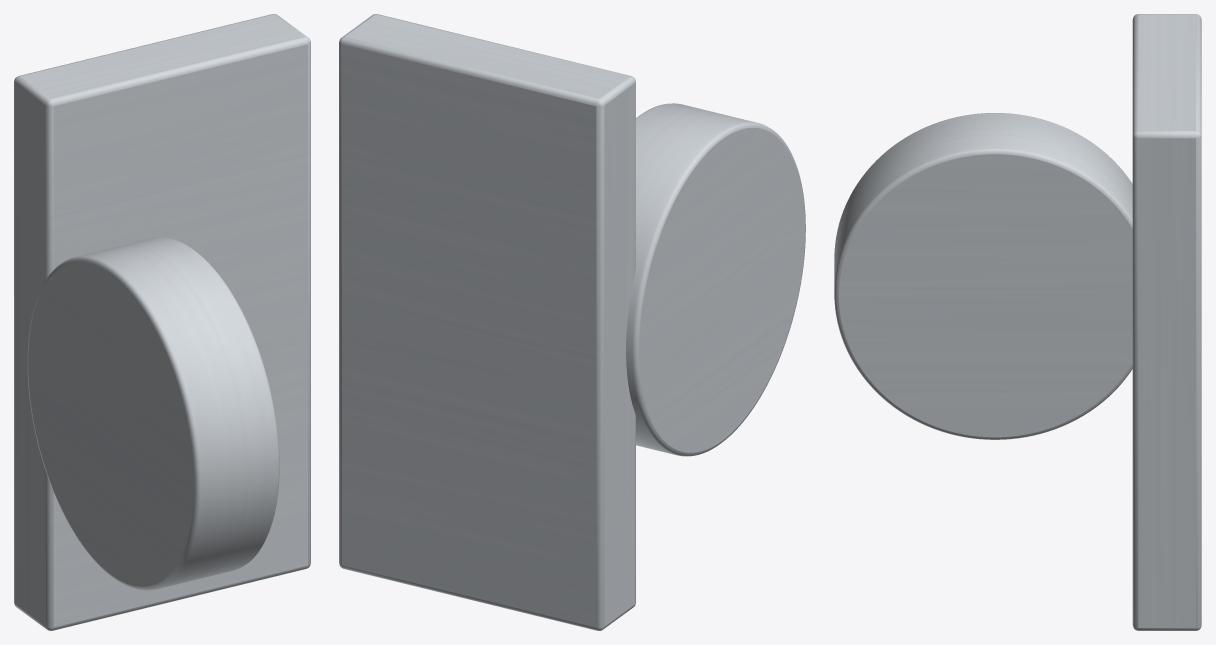
File: left_hand_aluminium.obj
3 renders of one model, left to right at view 1: azimuth 30°, elevation 25°; view 2: azimuth 150°, elevation 25°; view 3: azimuth 270°, elevation 25°, orthographic. The views are drawn at different scales.
Visible parts, largest first — view 1: left_hand__gripper_bridge, left_hand__wrist_roll_hub; view 2: left_hand__gripper_bridge, left_hand__wrist_roll_hub; view 3: left_hand__wrist_roll_hub, left_hand__gripper_bridge.
Boxes of the visible parts, x1=… form: left_hand__gripper_bridge: x1=14, y1=14, x2=310, y2=630; left_hand__wrist_roll_hub: x1=27, y1=237, x2=279, y2=590; left_hand__gripper_bridge: x1=339, y1=14, x2=635, y2=630; left_hand__wrist_roll_hub: x1=626, y1=103, x2=805, y2=456; left_hand__wrist_roll_hub: x1=834, y1=113, x2=1132, y2=439; left_hand__gripper_bridge: x1=1132, y1=14, x2=1201, y2=630.
Size of the model in its own units: 0.026 by 0.048 by 0.032.
1 material, 1 textured.
